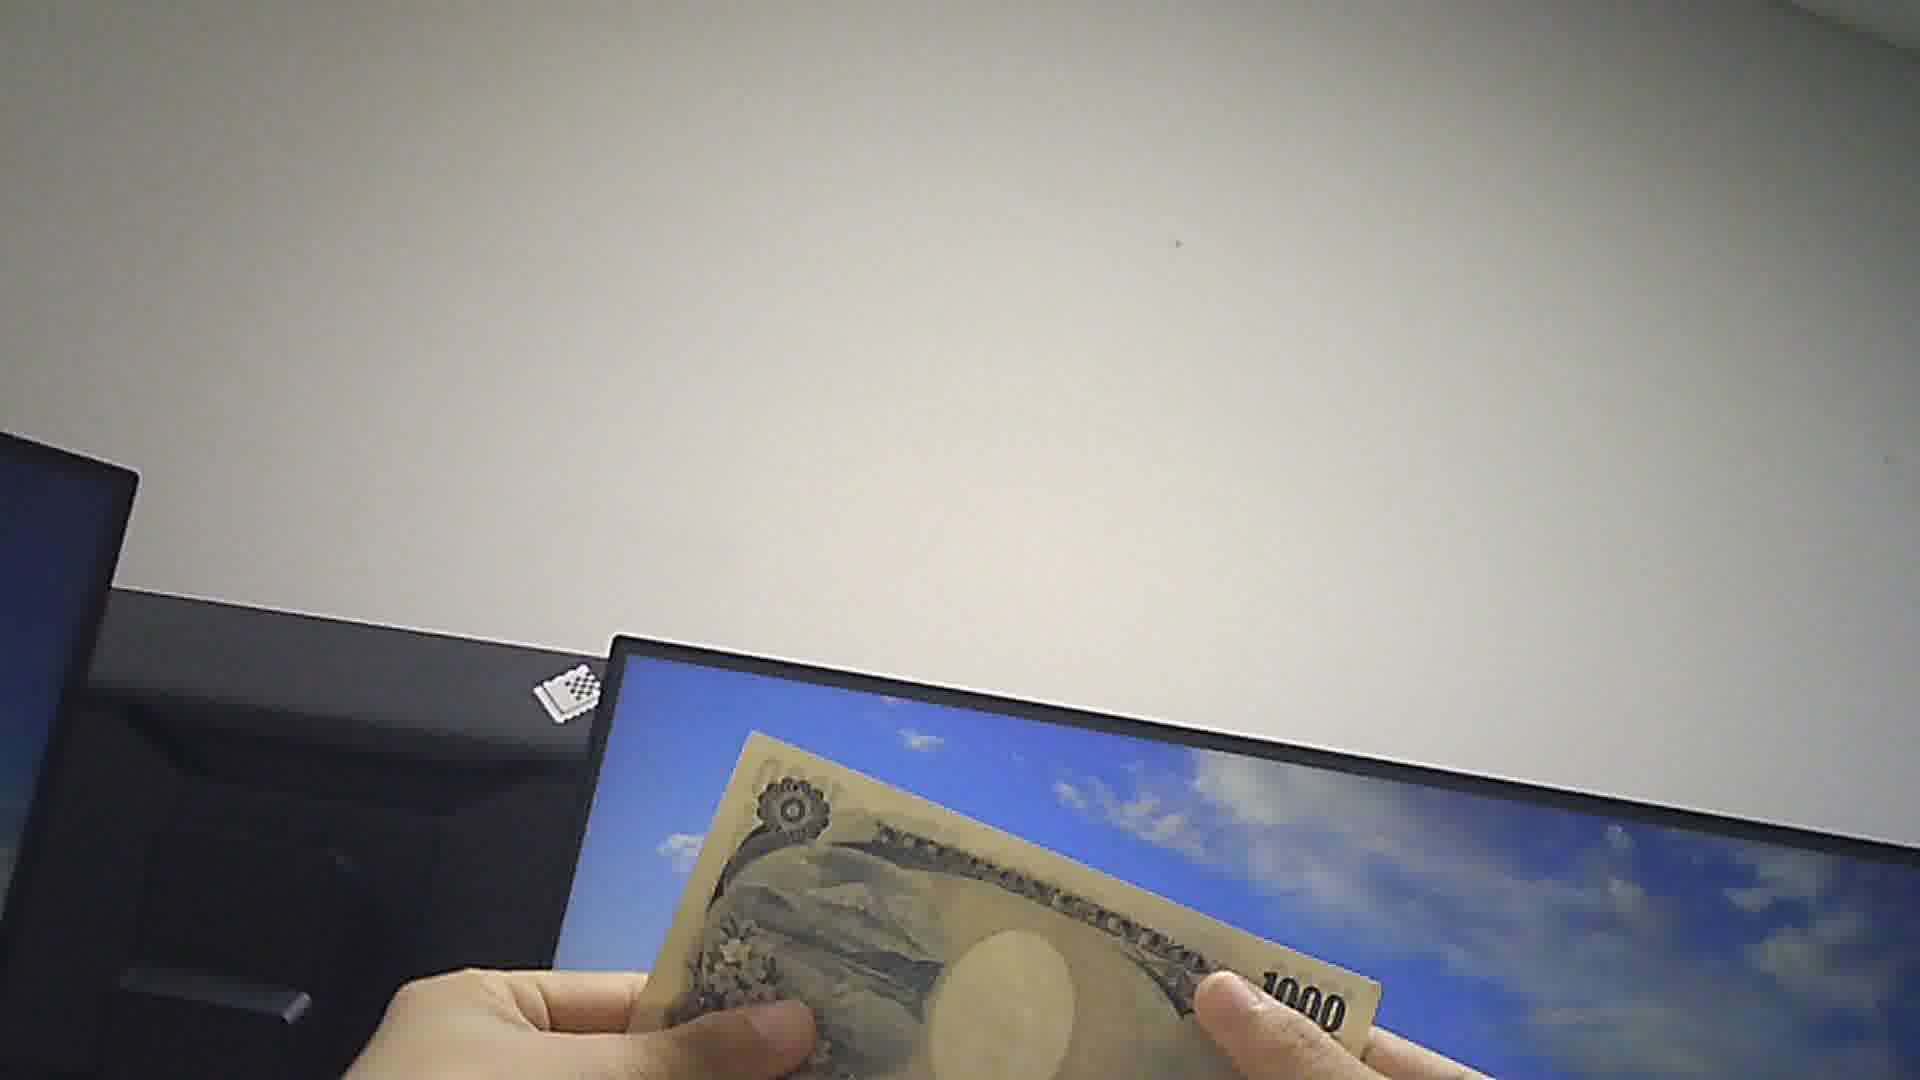1,000 Yen: (608, 699, 1367, 1079)
